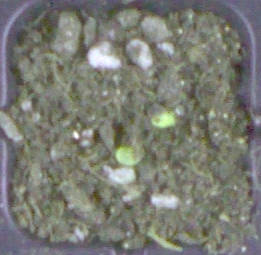pepper seed: (41, 57, 187, 224), (58, 40, 239, 170)
